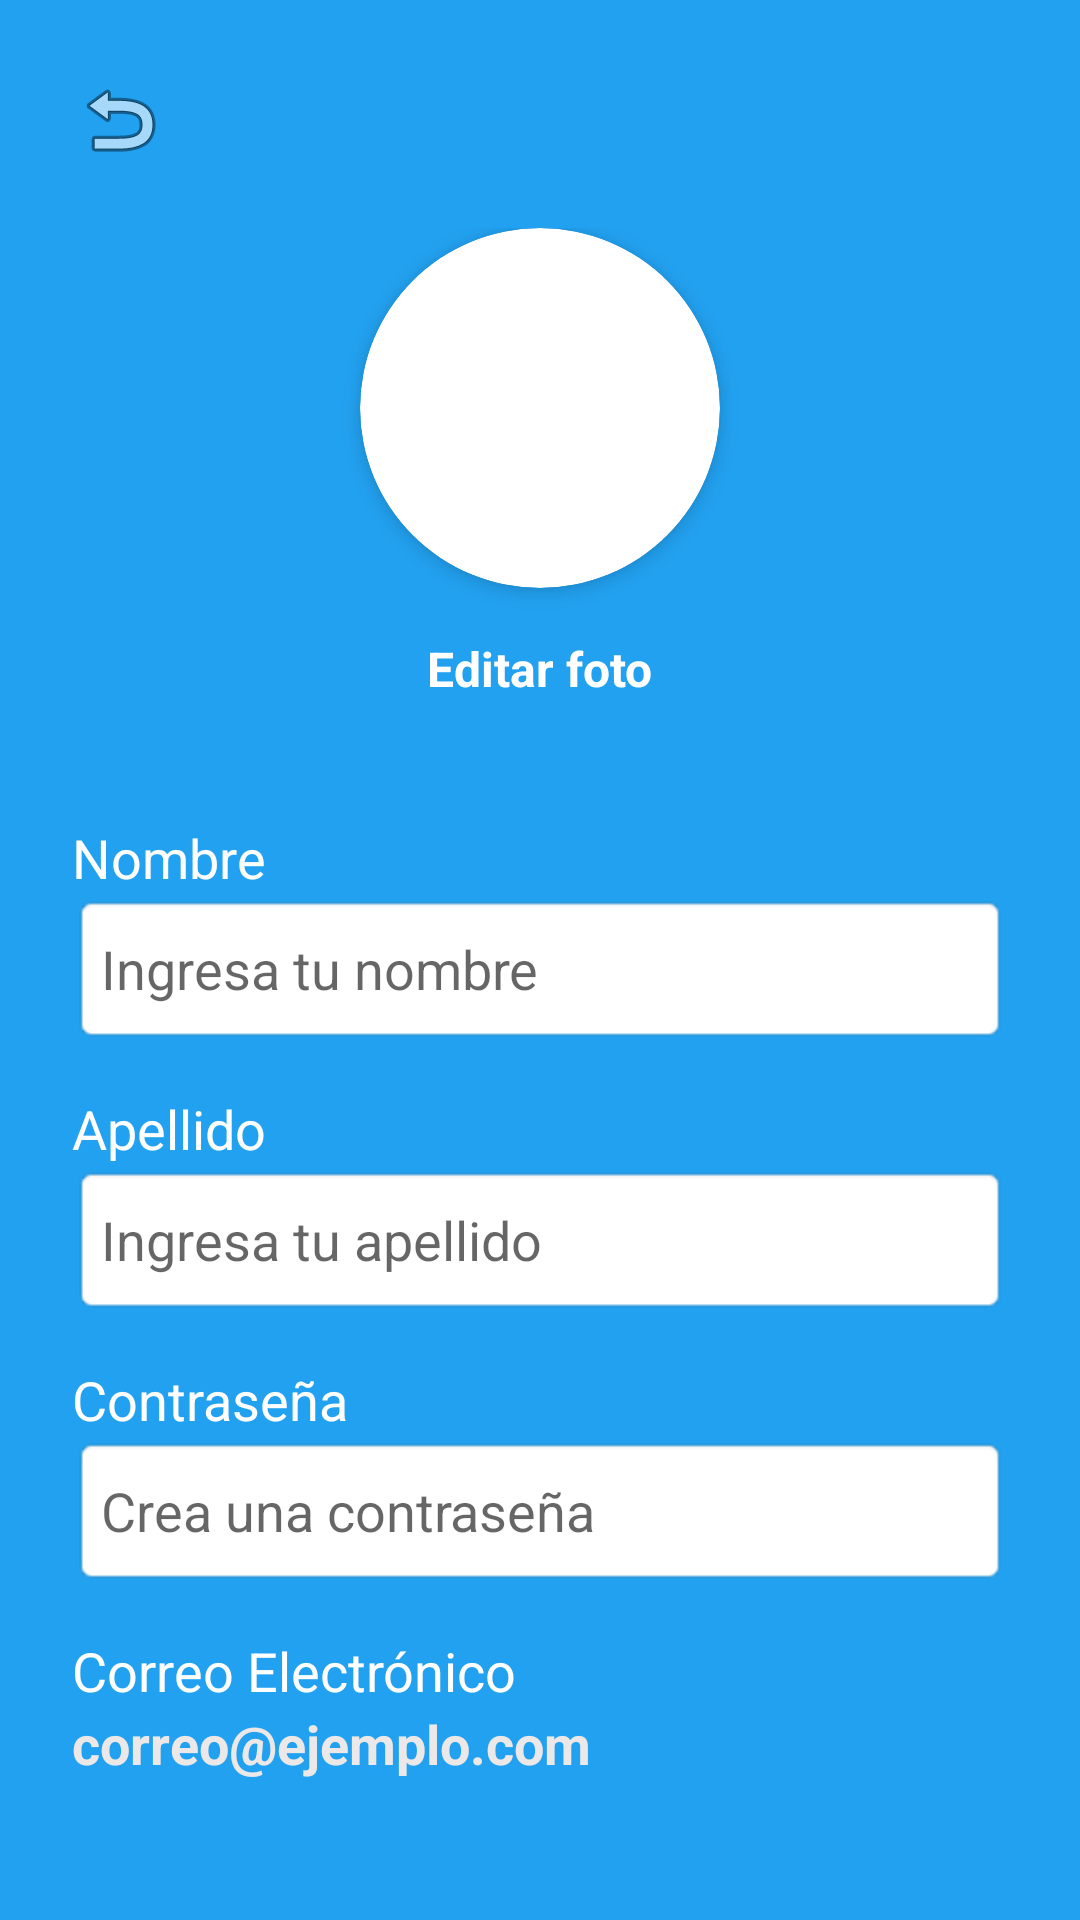

Named icons in this screenshot (1080px x 1920px) and their bounding boxes, box(x1, y1, x2, y2):
revert: box(87, 89, 156, 152)
